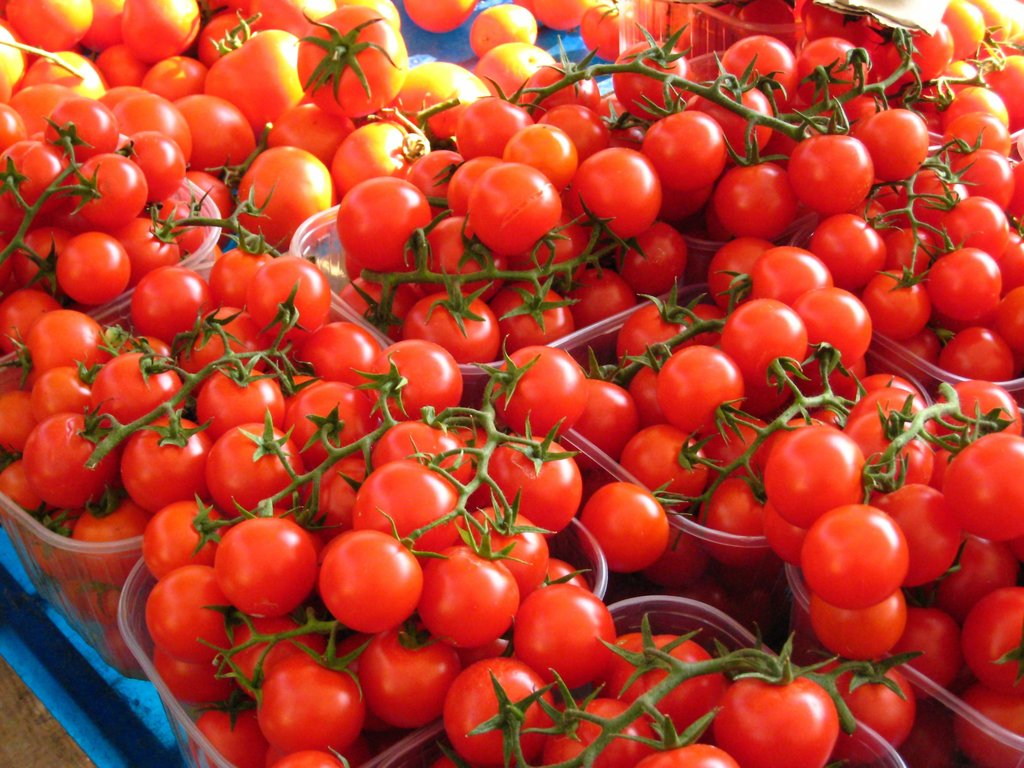Tomato: (0, 0, 1023, 767), (797, 497, 913, 609), (214, 511, 315, 620)
